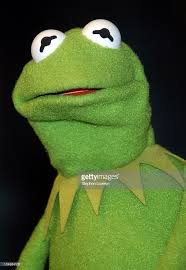kermit: (9, 18, 158, 171)
